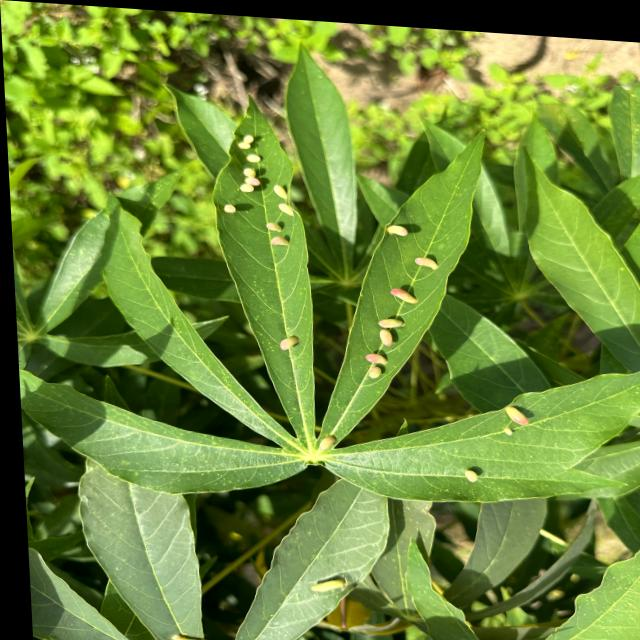Maleza: (0, 0, 159, 174)
Mosca: (371, 308, 420, 383), (262, 174, 293, 266), (231, 130, 262, 198), (379, 211, 430, 246), (307, 430, 352, 468), (489, 403, 536, 439), (355, 343, 392, 386), (271, 323, 306, 365), (454, 459, 490, 497), (309, 569, 352, 600), (214, 195, 247, 234), (385, 284, 427, 313), (411, 249, 441, 278)
